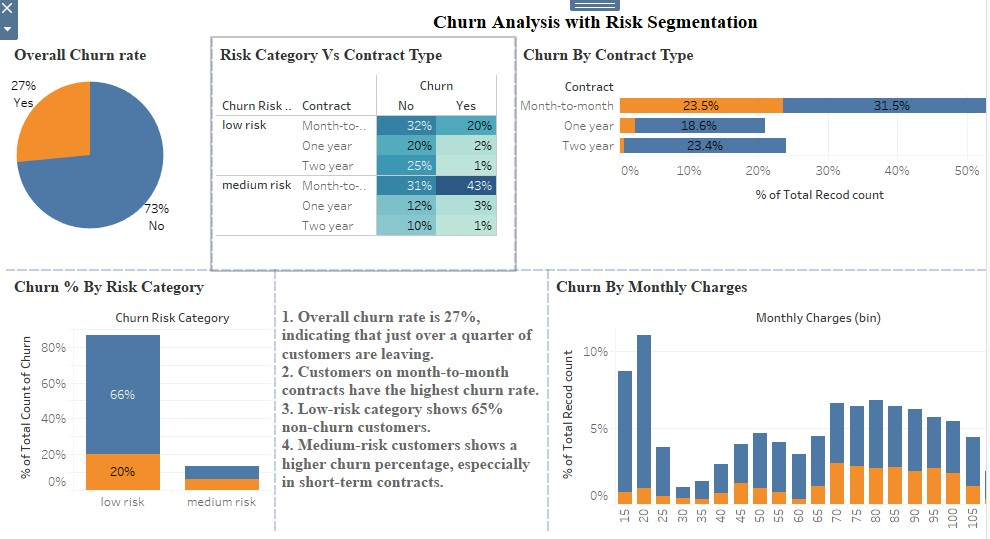

This screenshot's page, from the dashboard's own definition file:
{"tool":"tableau","page":{"name":"Viz for churn analysis with risk segmentation","canvas":[1000,1000],"units":"permille","ordinal":0},"visuals":[{"type":"text","box":[6.7,14.7,986.6,58.8]},{"type":"worksheet","title":"Overall Churn rate","mark":"Pie","box":[6.7,73.5,172.4,426.5]},{"type":"worksheet","title":"Risk Category Vs Contract Type","mark":"Square","rows":["Calculation_2006635119694241795","Contract"],"cols":["Churn"],"box":[179.1,73.5,253.9,426.5]},{"type":"worksheet","title":"Churn By Contract Type","mark":"Automatic","rows":["Contract"],"box":[433,73.5,426.4,426.5]},{"type":"legend","title":"Overall Churn rate","param":"[federated.071hppi19il7tt14av7jx1whtmnf].[none:Churn:nk]","box":[859.4,73.5,133.9,121.3]},{"type":"legend","title":"Overall Churn rate","param":"[federated.071hppi19il7tt14av7jx1whtmnf].[pcto:sum:Calculation_20066351196780052","box":[859.4,194.9,133.9,84.6]},{"type":"legend","title":"Risk Category Vs Contract Type","param":"[federated.071hppi19il7tt14av7jx1whtmnf].[pcto:sum:Calculation_20066351196780052","box":[859.4,279.4,133.9,119.5]},{"type":"worksheet","title":"Churn % By Risk Category","mark":"Automatic","rows":["Churn"],"cols":["Calculation_2006635119694241795"],"box":[6.7,500,225.1,485.3]},{"type":"text","box":[231.8,500,228.5,485.3]},{"type":"worksheet","title":"Churn By Monthly Charges","mark":"Automatic","rows":["Calculation_2006635119678005248"],"cols":["Monthly Charges (bin)"],"box":[460.2,500,399.2,485.3]}]}

Visuals, with their boxes on the dashboard's canvas, which has no fixed pixel size, in thousandths of its width and height (x1, y1, x2, y2). These are canvas units, not pixel positions in the 990x539 screenshot, which may show the page scaled, cropped or inside an application window:
text: left=7, top=15, right=993, bottom=74
"Overall Churn rate" worksheet (Pie marks): left=7, top=74, right=179, bottom=500
"Risk Category Vs Contract Type" worksheet (Square marks): left=179, top=74, right=433, bottom=500
"Churn By Contract Type" worksheet: left=433, top=74, right=859, bottom=500
"Overall Churn rate" legend: left=859, top=74, right=993, bottom=195
"Overall Churn rate" legend: left=859, top=195, right=993, bottom=280
"Risk Category Vs Contract Type" legend: left=859, top=279, right=993, bottom=399
"Churn % By Risk Category" worksheet: left=7, top=500, right=232, bottom=985
text: left=232, top=500, right=460, bottom=985
"Churn By Monthly Charges" worksheet: left=460, top=500, right=859, bottom=985
